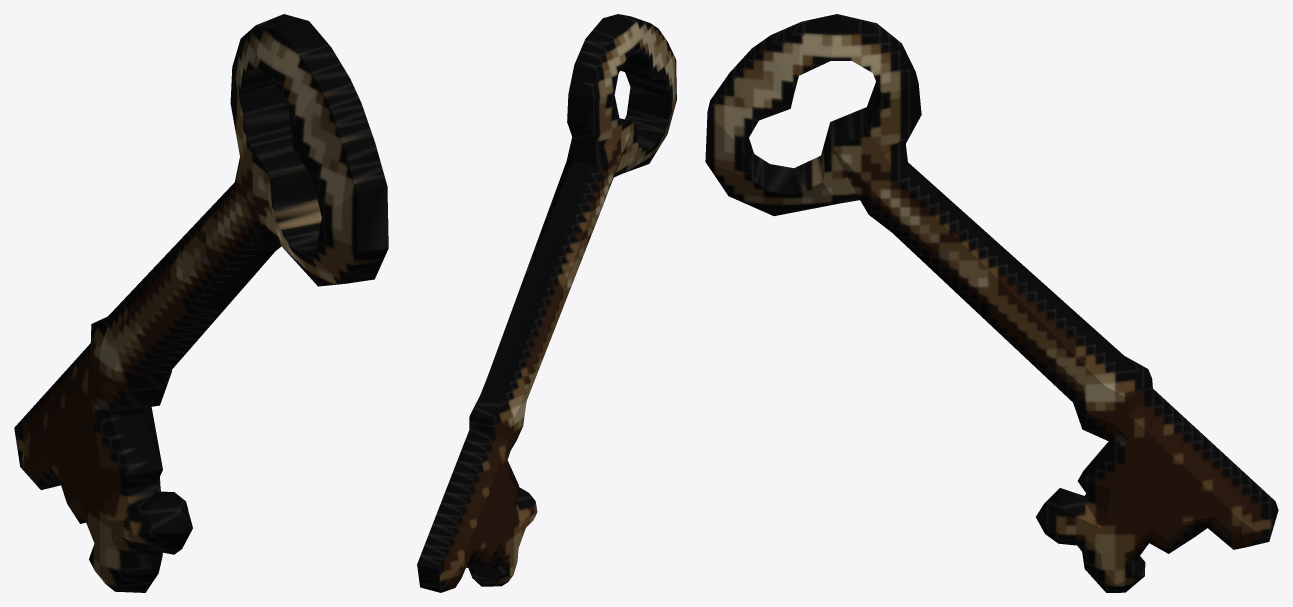
Rendered from Finished Key.glb.
The picture shows the model from 3 angles, left to right: view 1: azimuth 30°, elevation 25°; view 2: azimuth 150°, elevation 25°; view 3: azimuth 270°, elevation 25°; orthographic projection. The views are drawn at different scales.
Visible parts, largest first — view 1: Key Export; view 2: Key Export; view 3: Key Export.
Boxes of the visible parts, x1,y1,x2,y2 form: Key Export: (14,14,388,592); Key Export: (417,14,676,592); Key Export: (705,14,1278,592).
Size of the model in its own units: 0.2879 by 3.16 by 2.87.
Materials: 1 (1 with a texture image).
